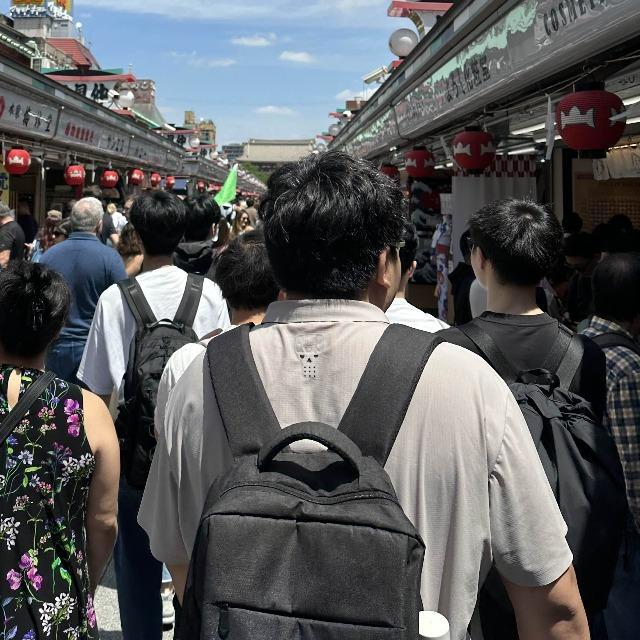NoHelmet: (262, 150, 405, 311), (464, 196, 563, 295)
